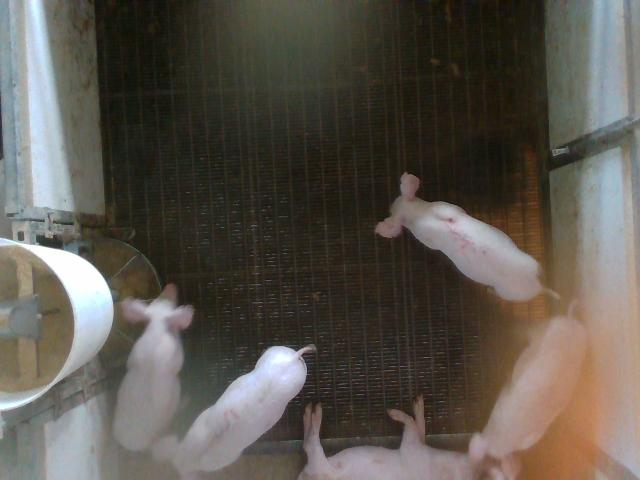pig-5: (375, 172, 545, 301)
